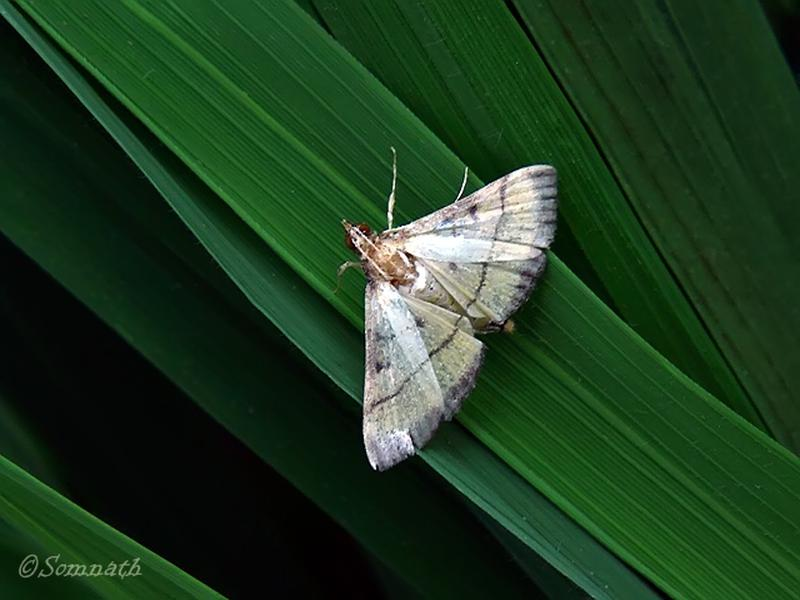Leaf_folder: (319, 160, 579, 480)
